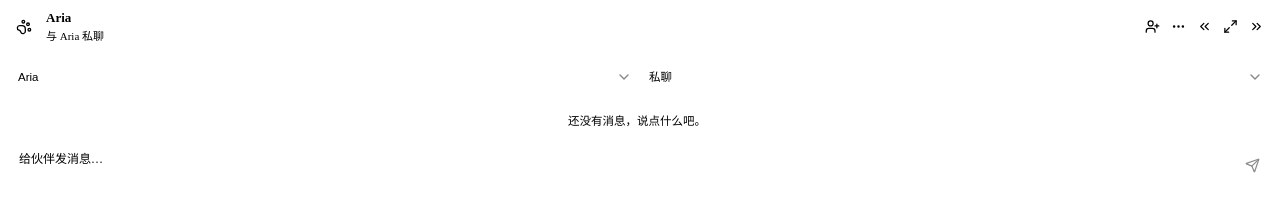
Test case: companion chat › pauses the current conversation from the header menu and flips the action
Click the button named "更多操作": (1178, 27) [1166,15,1190,39]
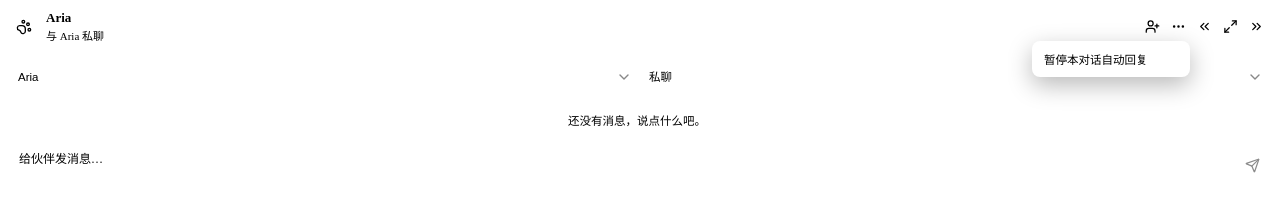
expect the menu item with class "companion-menu-item" reads "暂停本对话自动回复": met
Click the menu item with class "companion-menu-item": (1111, 59) [1036,45,1186,73]
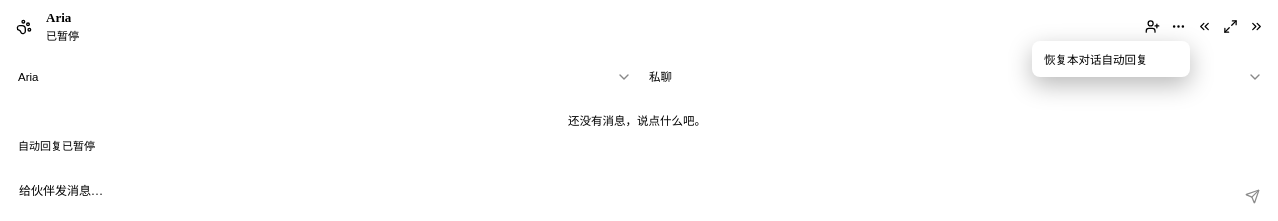
expect the menu item with class "companion-menu-item" reads "恢复本对话自动回复": met, box [1036,45,1186,73]
expect the text with class "companion-run--paused" reads "自动回复已暂停": met, box [18,140,95,152]
